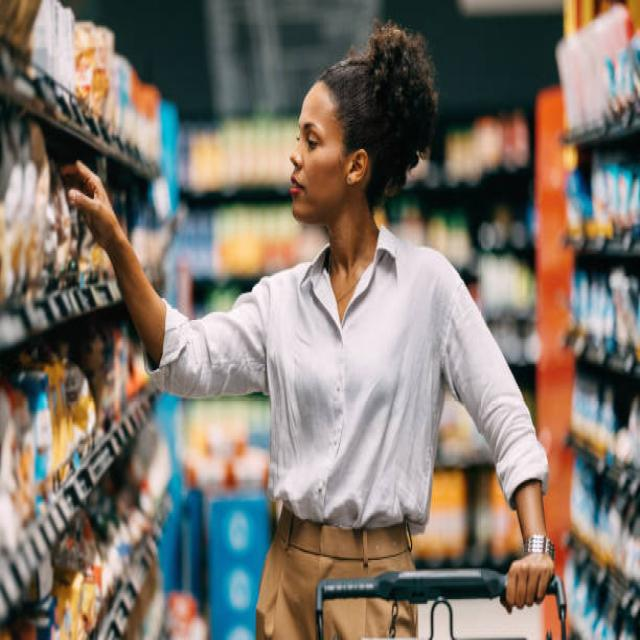hands: (60, 160, 120, 251), (501, 552, 553, 610)
person: (70, 24, 548, 637)
